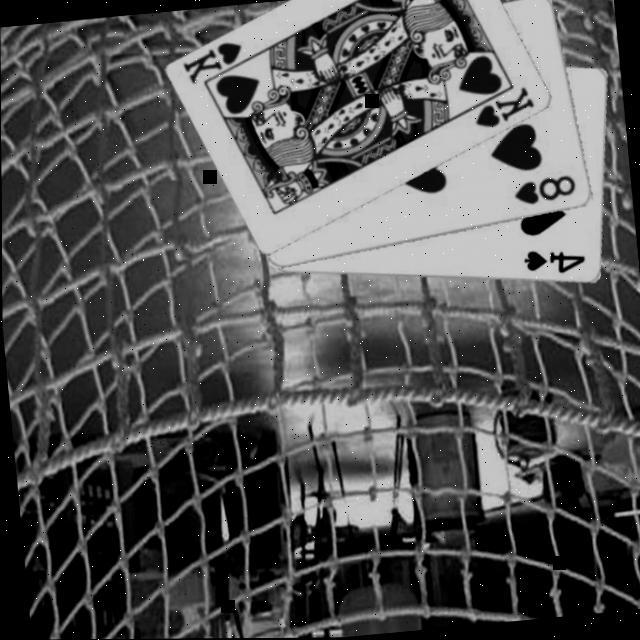4S: (518, 244, 587, 282)
8H: (508, 173, 579, 211)
KH: (468, 84, 538, 134), (177, 40, 247, 90)
